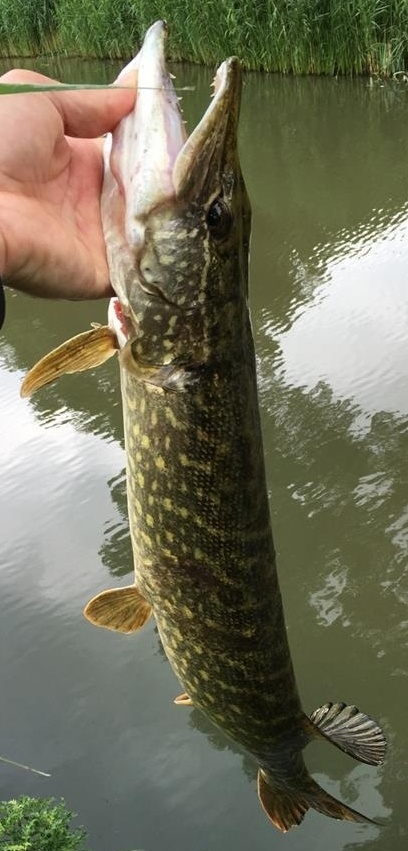Esox lucius: (20, 20, 388, 831)
